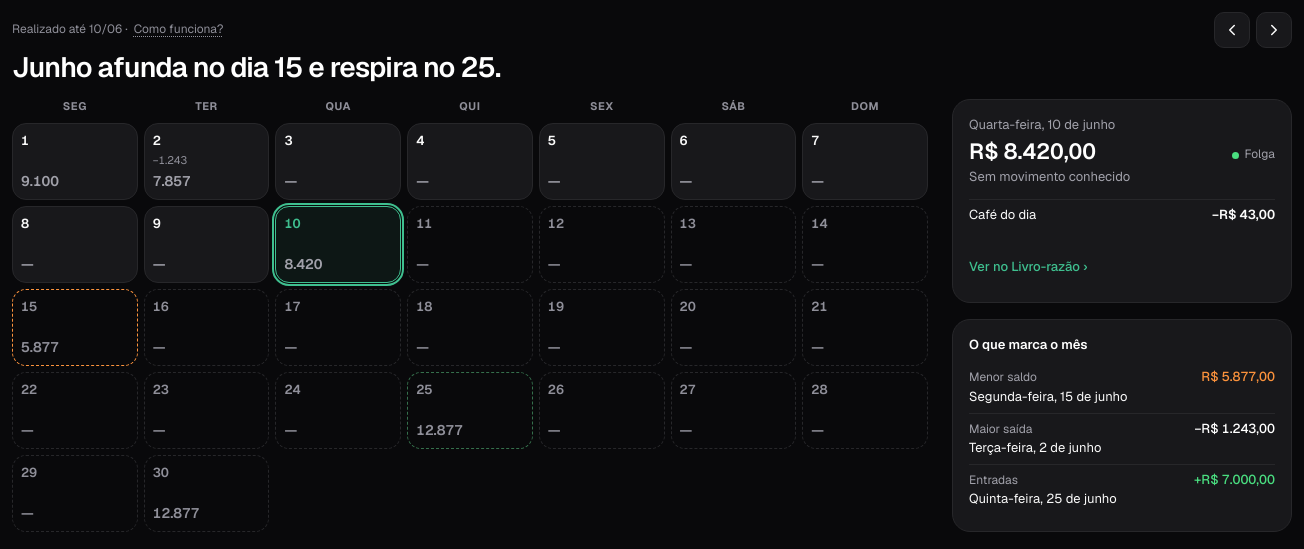
Test: YearGridScreen (Calendário) › navegar o mês atualiza a grade e zera a seleção para o dia 1
This screenshot has width=1304, height=549.
Expected: the table named "junho" is shown, [12,99,928,532]
Click the button named "Próximo mês": (1274, 30) [1256,12,1292,48]
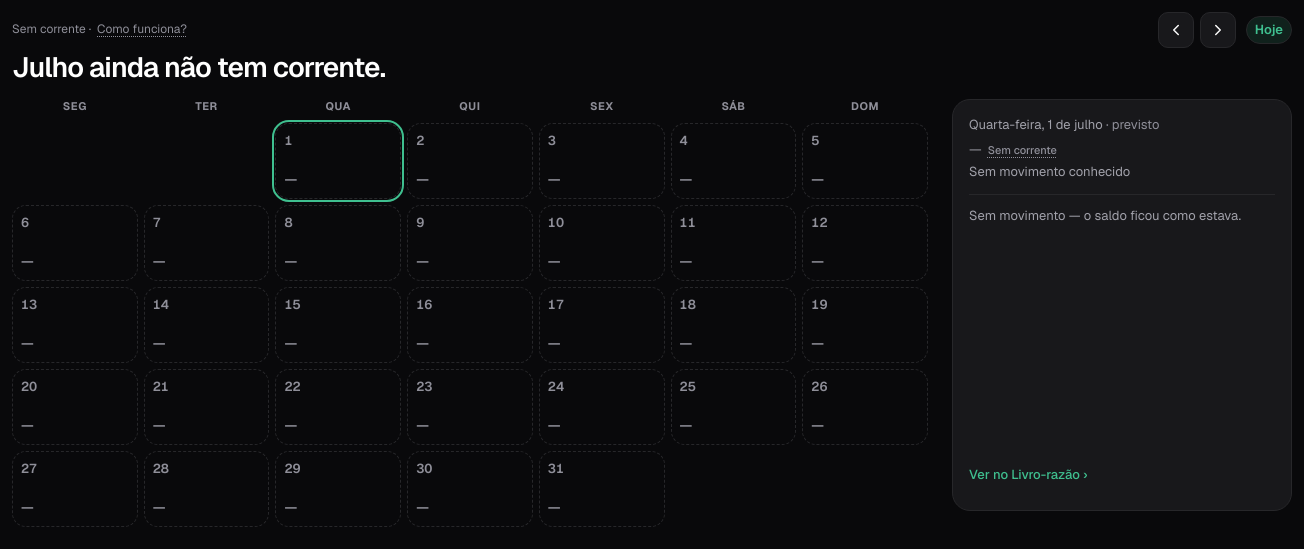
Expected: the table named "julho de 2026" is shown, [12,99,928,527]
